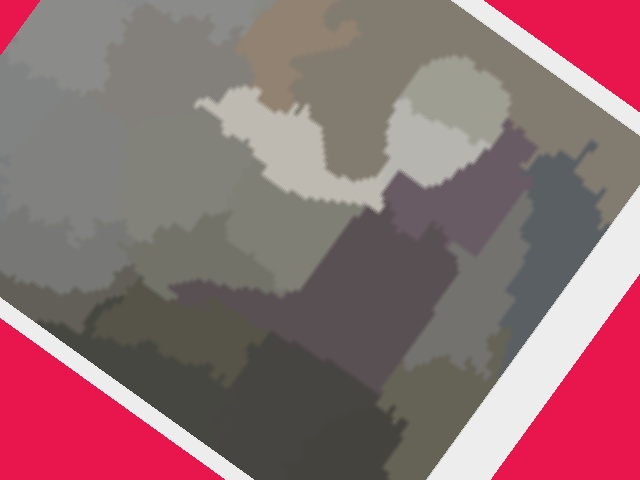three: (417, 113, 478, 174)
